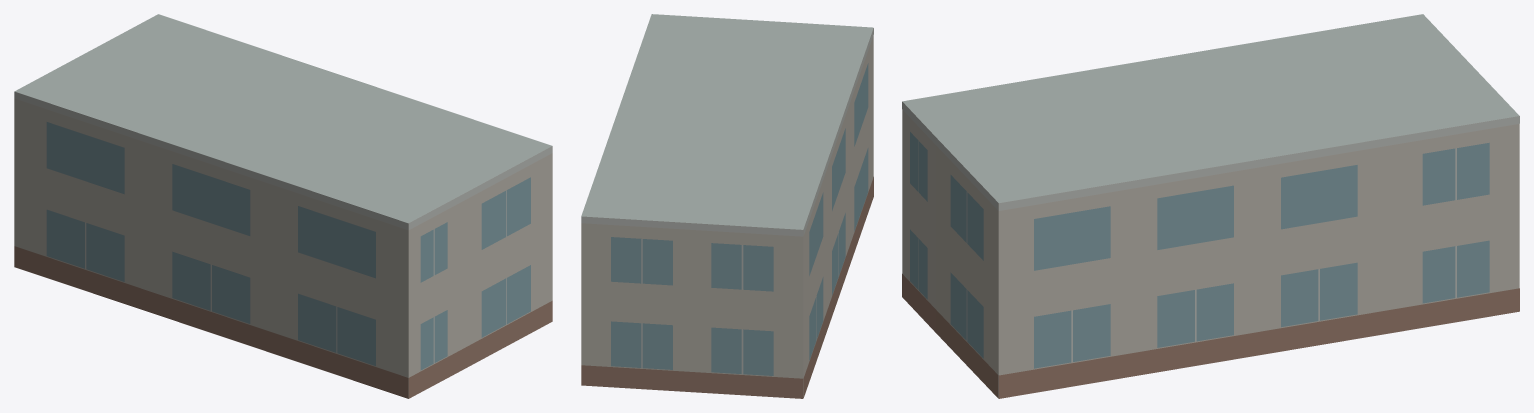
Rendered from survey-upis-32698468.glb.
3 renders of one model, left to right at view 1: azimuth 30°, elevation 25°; view 2: azimuth 150°, elevation 25°; view 3: azimuth 270°, elevation 25°, orthographic. The views are drawn at different scales.
Visible parts, largest first — view 1: survey-upis-32698468.tmp; view 2: survey-upis-32698468.tmp; view 3: survey-upis-32698468.tmp.
Part boxes in pixels (<box>): survey-upis-32698468.tmp: <box>14,14,552,398</box>; survey-upis-32698468.tmp: <box>581,14,873,398</box>; survey-upis-32698468.tmp: <box>902,14,1519,398</box>.
Size of the model in its own units: 12.67 by 6.1 by 17.46.
